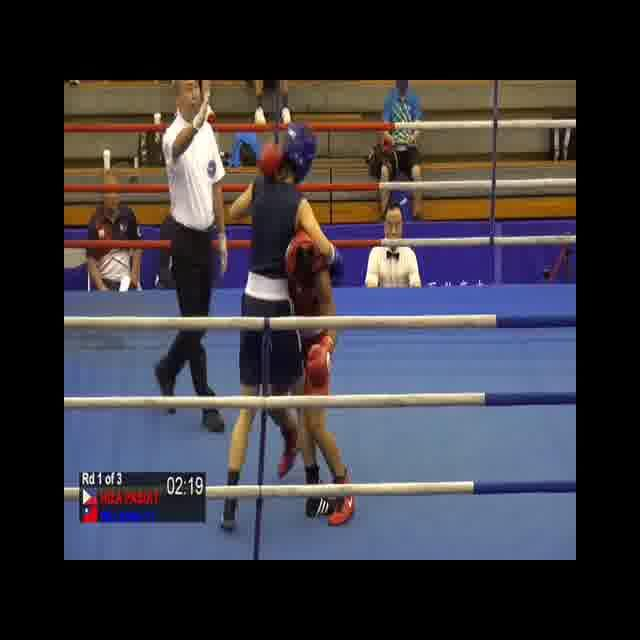blue-player: (216, 120, 343, 533)
red-player: (255, 144, 357, 530)
referee: (152, 80, 230, 436)
